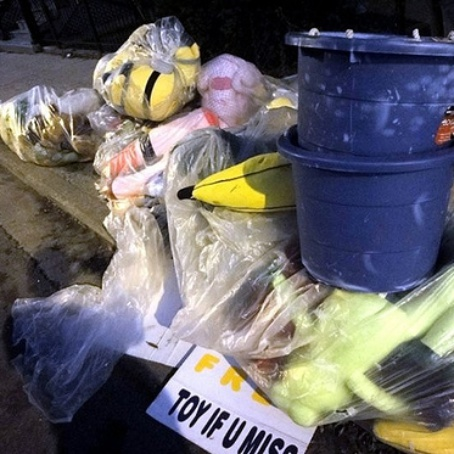trash: (2, 26, 454, 454)
